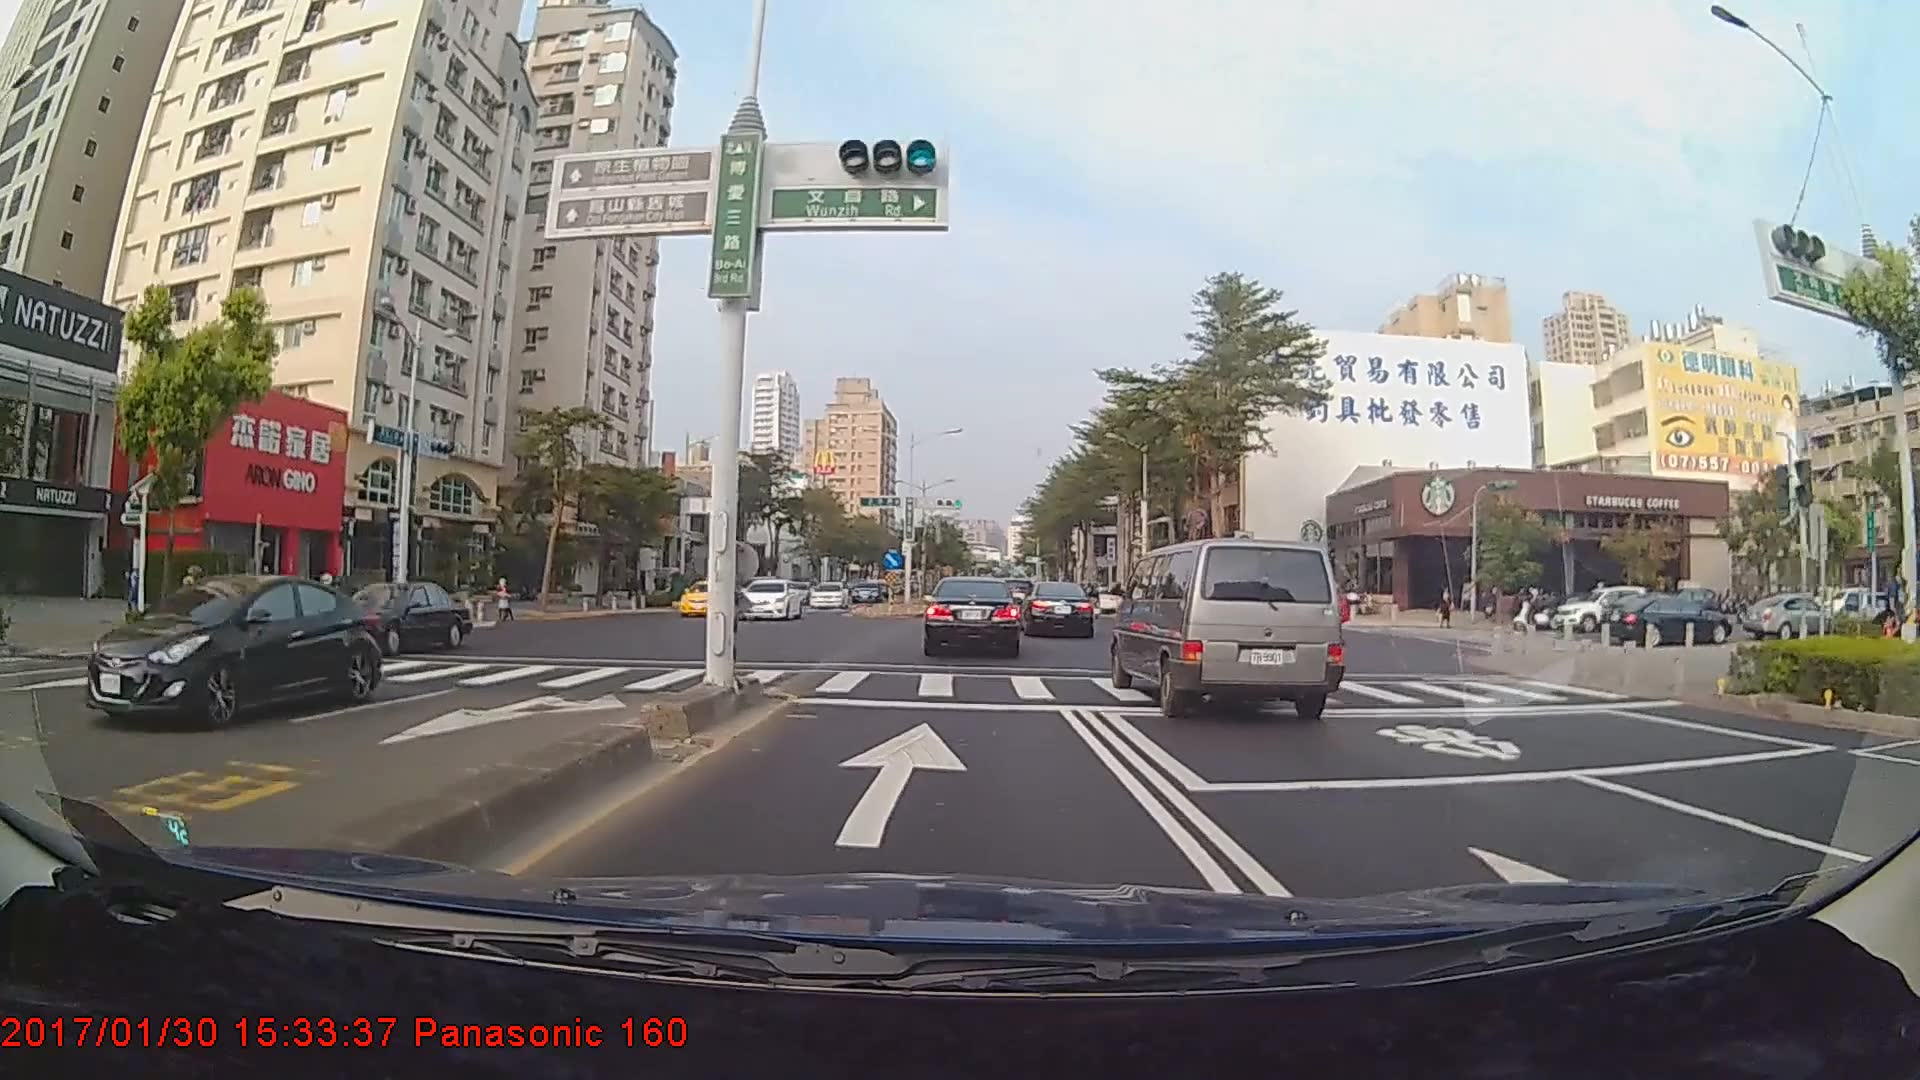pedestrian: (1880, 564, 1911, 653)
rider: (157, 573, 218, 649), (1515, 584, 1561, 634)
vehicle: (82, 570, 379, 725), (1110, 535, 1346, 721), (318, 580, 470, 655), (922, 576, 1023, 658), (1618, 583, 1746, 647), (1738, 592, 1837, 640), (1020, 580, 1096, 639), (740, 576, 800, 621), (677, 577, 740, 618), (805, 581, 847, 610)
